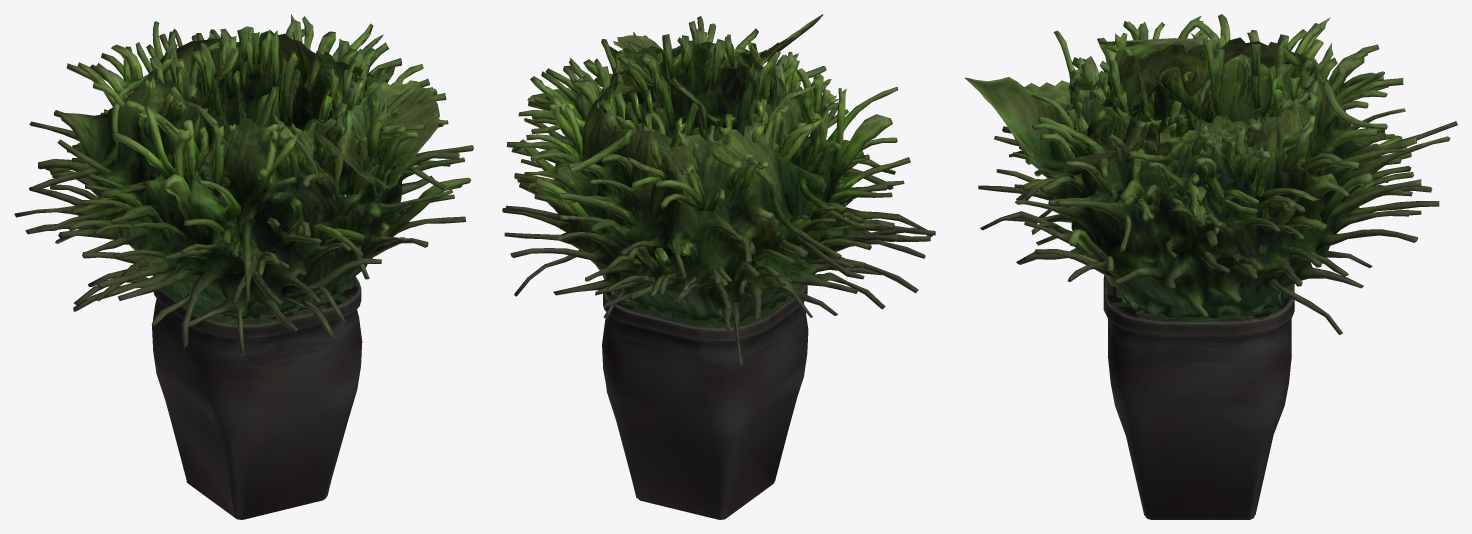
The model's file is DRACAENA_GRASS_Plant_35InchesTall_0222185040_texture.glb.
The picture shows the model from 3 angles, left to right: view 1: azimuth 30°, elevation 25°; view 2: azimuth 150°, elevation 25°; view 3: azimuth 270°, elevation 25°; orthographic projection. The views are drawn at different scales.
Visible parts, largest first — view 1: Mesh_0; view 2: Mesh_0; view 3: Mesh_0.
Part boxes in pixels (<box>): Mesh_0: <box>14,14,473,519</box>; Mesh_0: <box>502,14,935,519</box>; Mesh_0: <box>965,14,1457,519</box>.
Bounding box in the file's own units: 0.8206 × 0.889 × 0.8966.
1 material, 1 textured.
